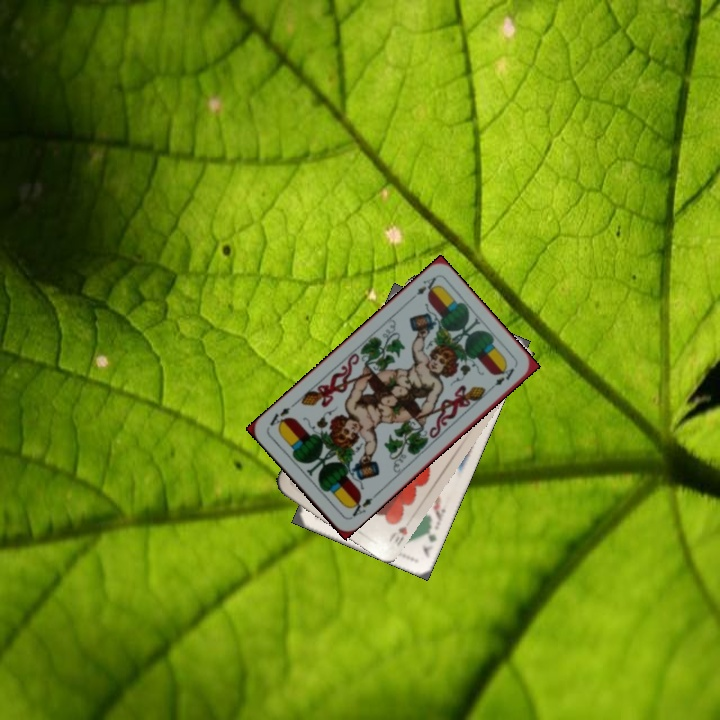EA: (344, 490, 379, 521), (405, 273, 440, 304)
GK: (418, 520, 439, 560)
H10: (384, 522, 410, 549)
